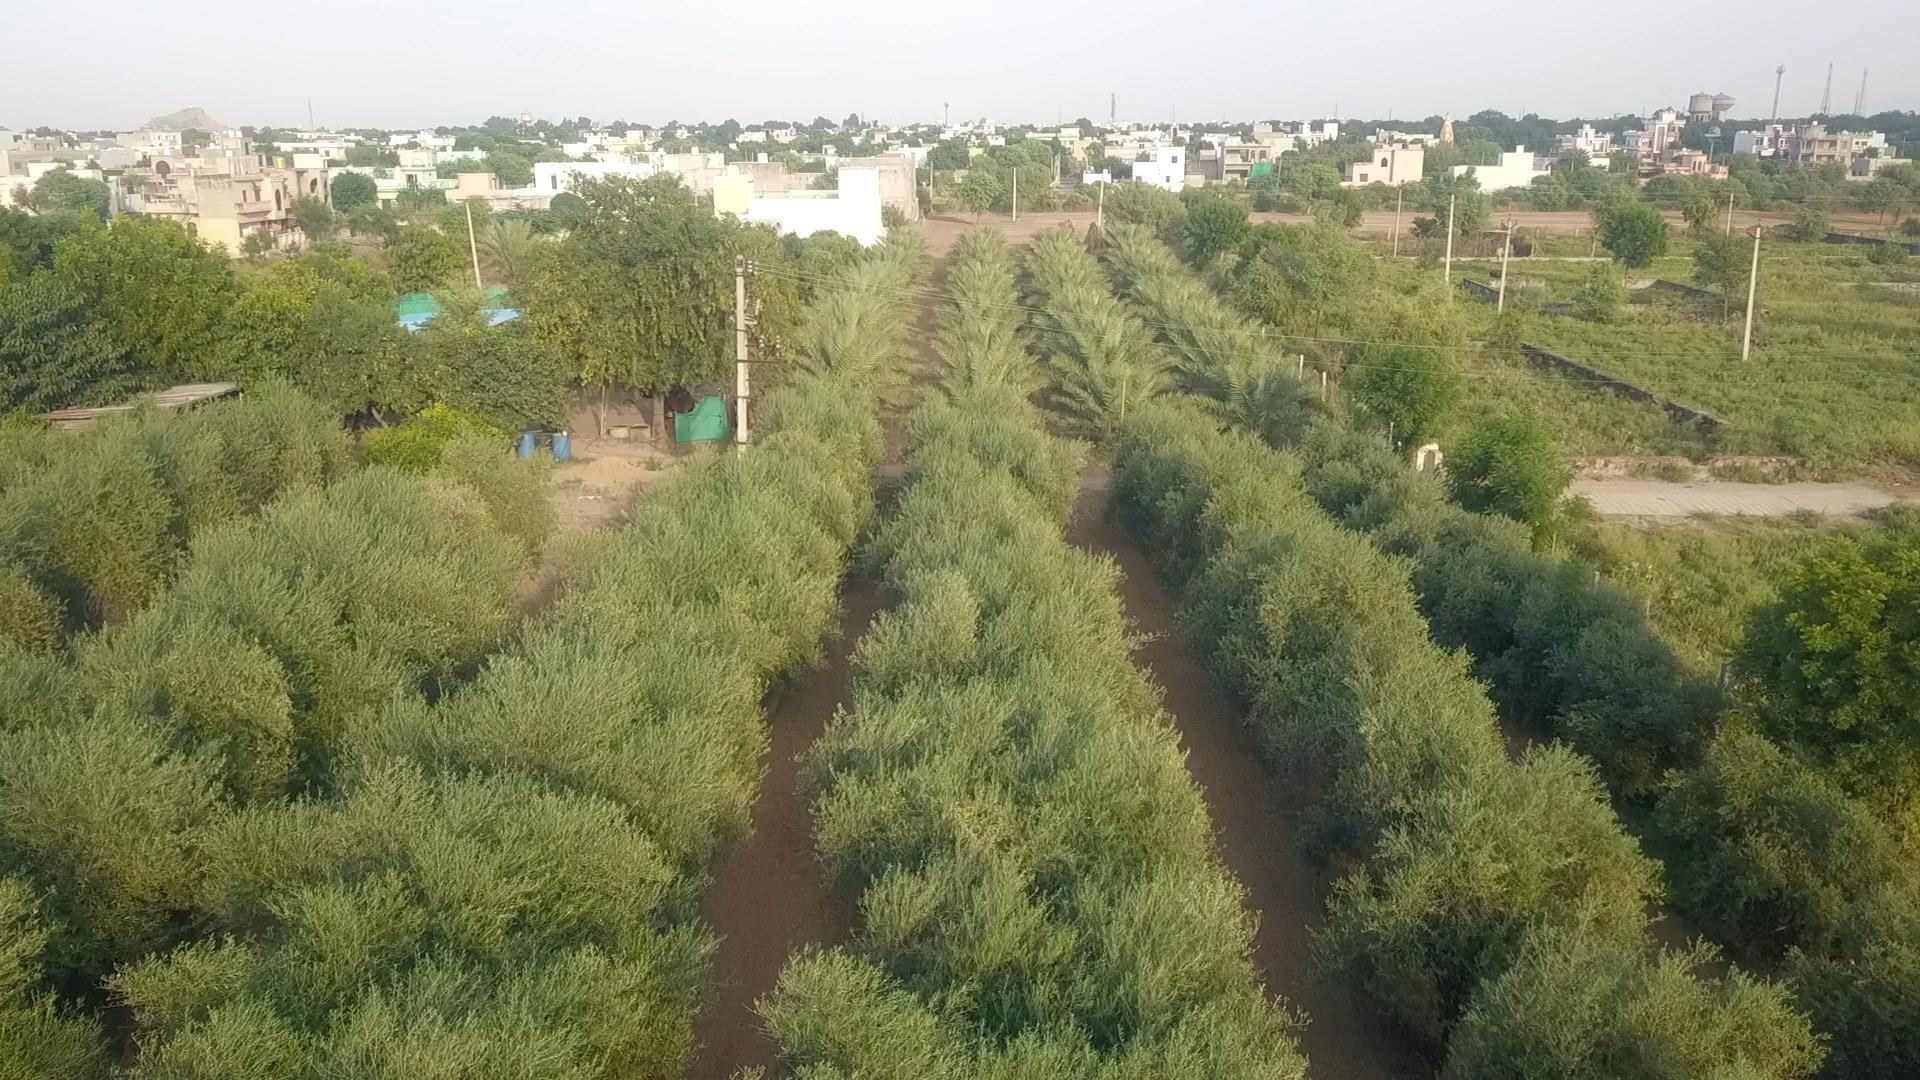canopy: (129, 389, 876, 1079), (1109, 404, 1822, 1079), (1302, 425, 1919, 1079), (758, 448, 1309, 1079), (0, 468, 525, 963)
road: (1068, 462, 1420, 1079), (692, 578, 887, 1079)
